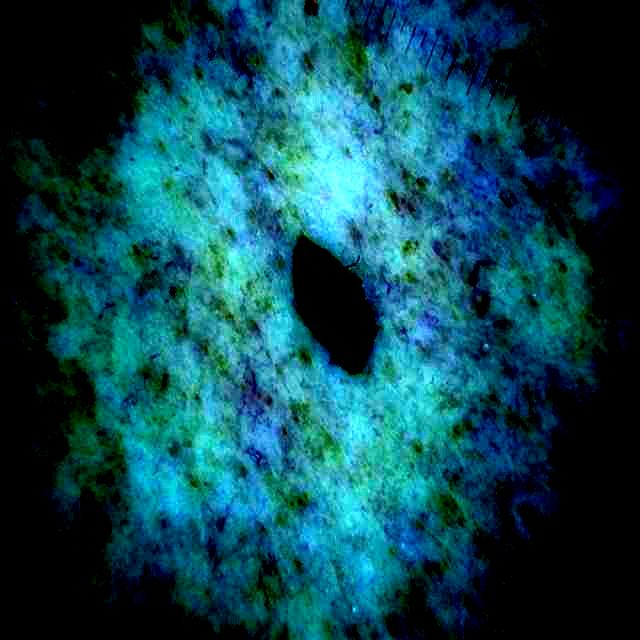MEL: (298, 238, 371, 369)
